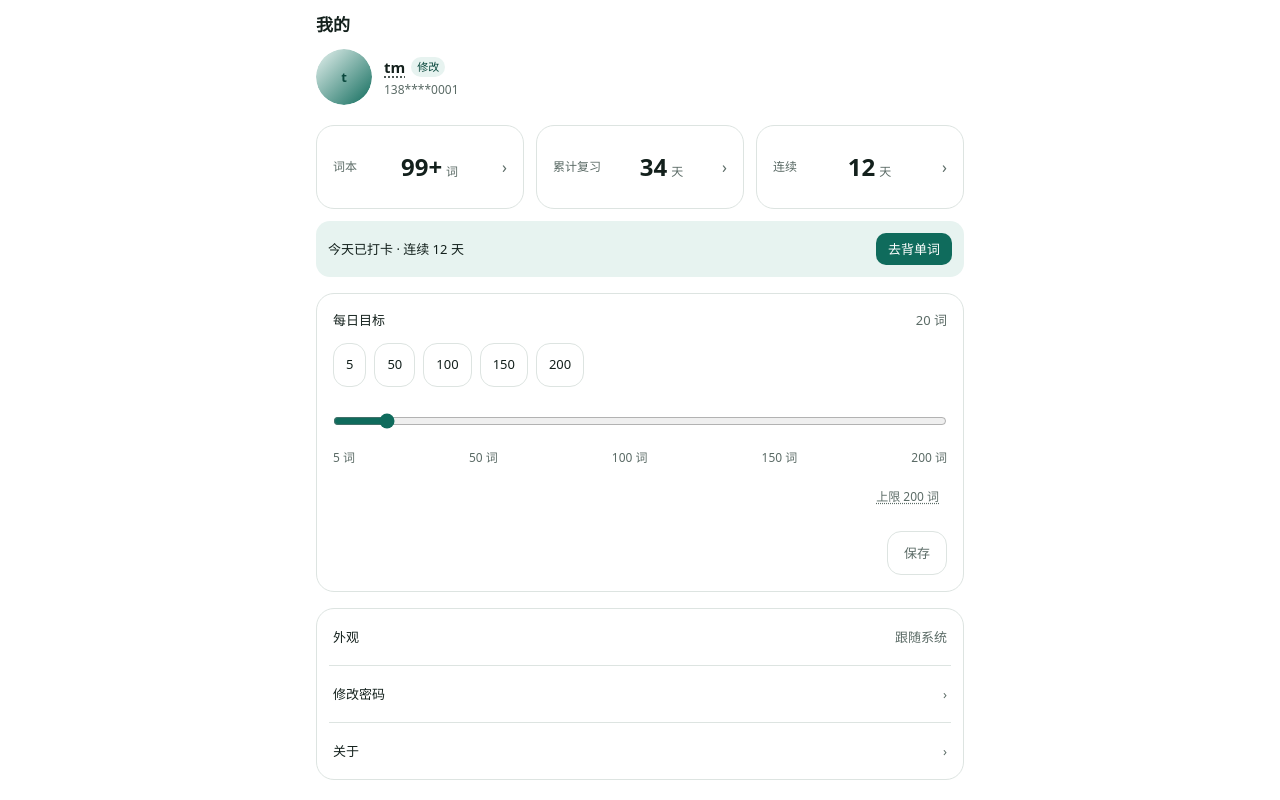
Test case: J 组 · F 区设置列表（§3.8.1:957 的**有源三行**：逐字标题 + 相对次序 + 行几何 + 两部落点 + 主题写键） › J-02 外观行：trailing=value 显示当前档人话；点击按 light→dark→system→light 循环，逐次钉「写了哪颗键、传了哪个 mode」
The image size is (1280, 800).
Later steps or results of the test are not shown.
Click the button "外观 跟随系统": (921,637) [329,609,951,665]
Wait 80 ms
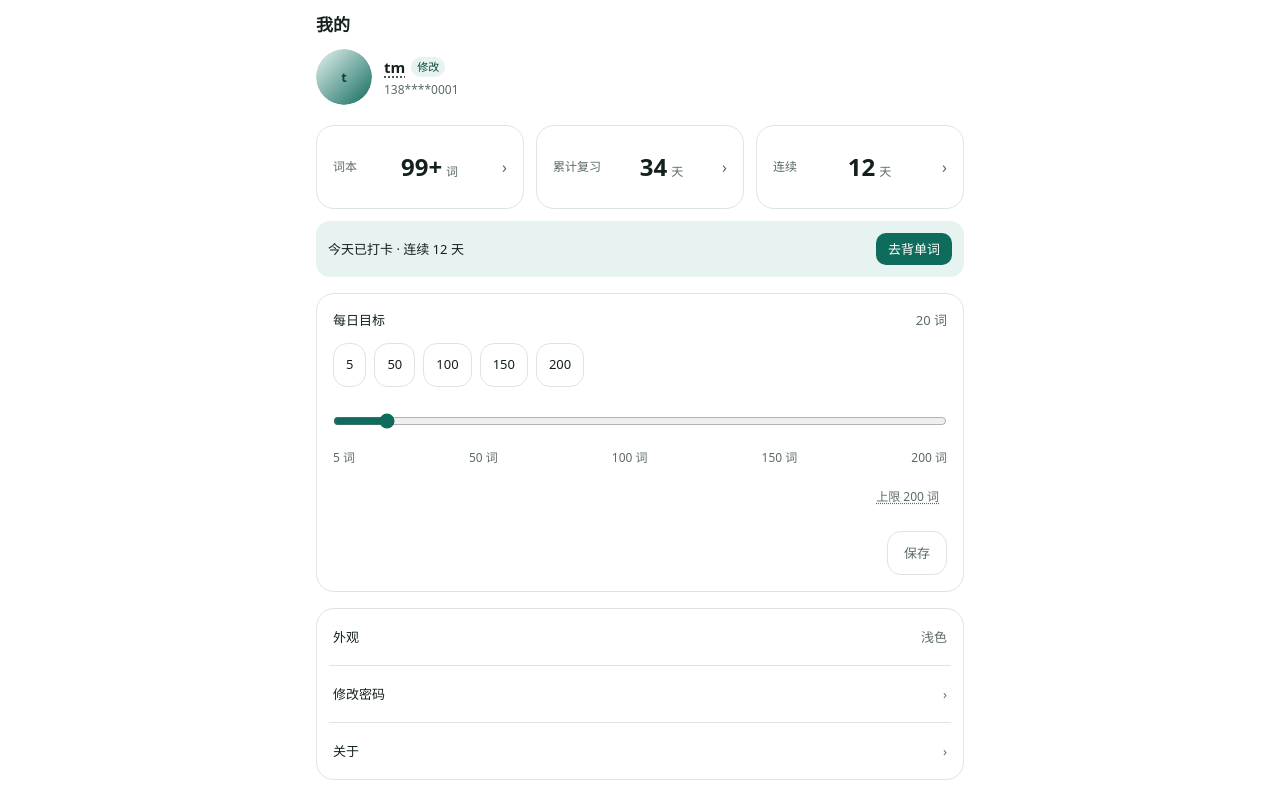
Click the button "外观 浅色": (346,637) [329,609,951,665]
Wait 80 ms
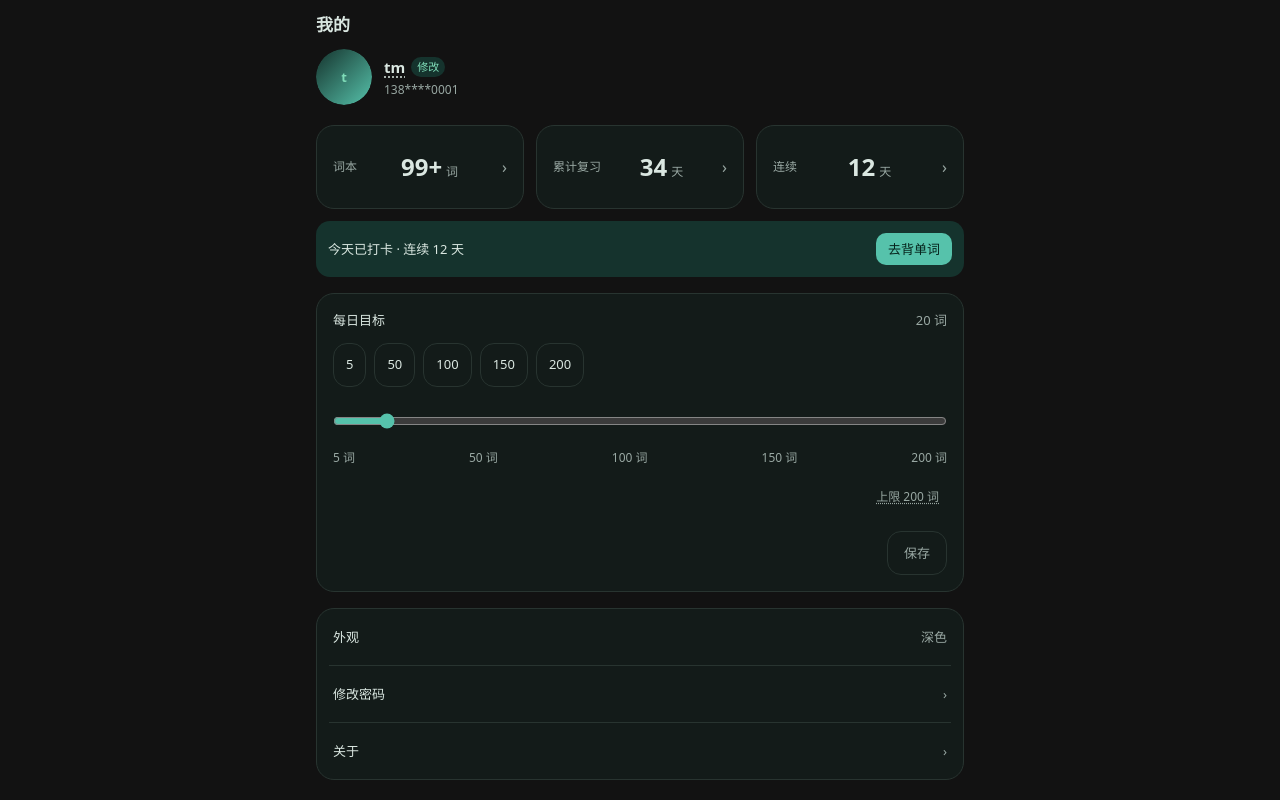
Click the button "外观 深色": (346,637) [329,609,951,665]
Wait 80 ms
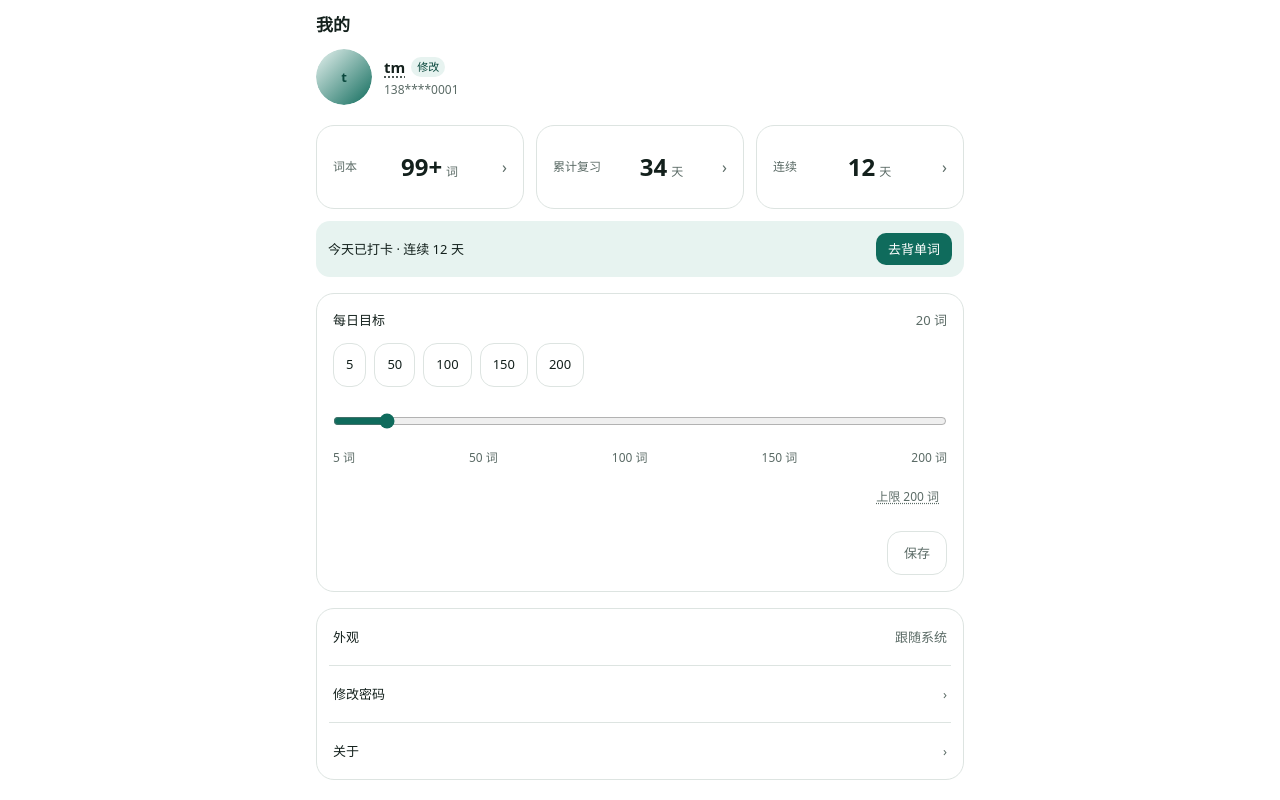
Check: the text "跟随系统" is shown, box [895,627,947,648]
